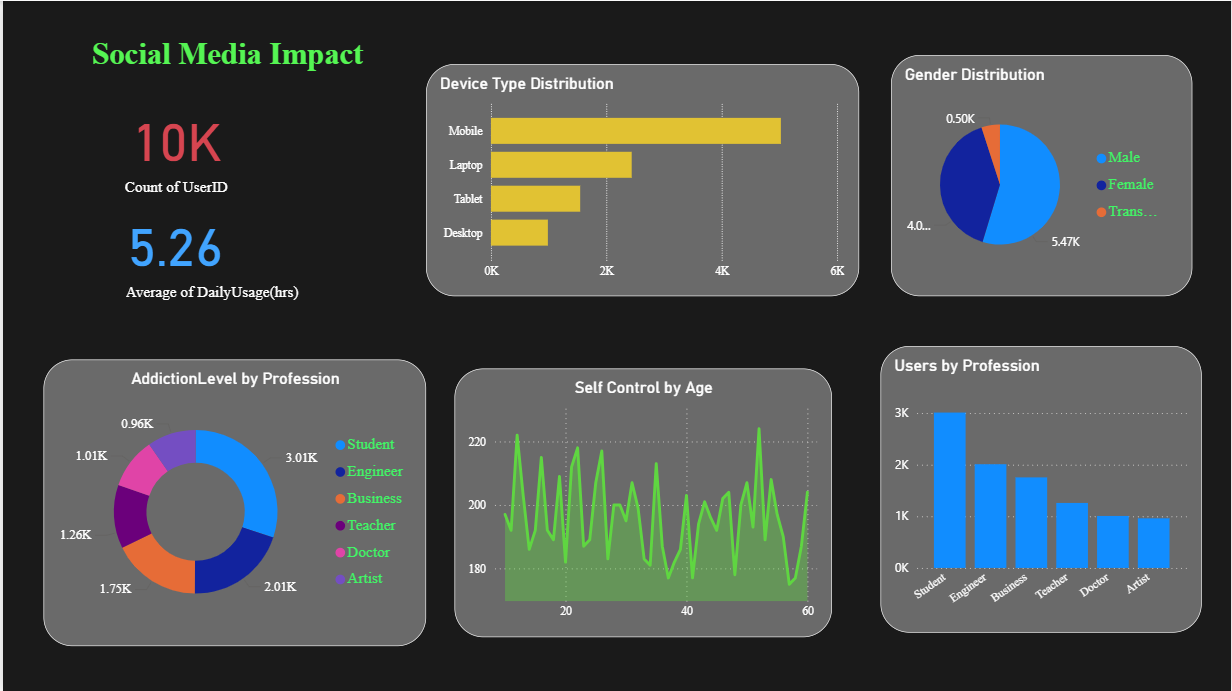

This screenshot's page, from the dashboard's own definition file:
{"tool":"powerbi","page":{"name":"Page 1","canvas":[1280,720],"ordinal":0},"visuals":[{"type":"pieChart","title":"Gender Distribution","fields":{"Category":["Sheet1.Gender"],"Y":["CountNonNull(Sheet1.Gender)"]},"box":[926,56.7,313.7,251.3],"z":0},{"type":"columnChart","title":"Users by Profession ","fields":{"Category":["Sheet1.Profession"],"Y":["CountNonNull(Sheet1.UserID)"]},"box":[914.7,359.1,334.5,298.6],"z":1000},{"type":"barChart","title":"Device Type Distribution","fields":{"Category":["Sheet1.DeviceType"],"Y":["CountNonNull(Sheet1.UserID)"]},"box":[440.3,66.1,451.7,241.9],"z":2000},{"type":"donutChart","title":"AddictionLevel by Profession","fields":{"Category":["Sheet1.Profession"],"Y":["CountNonNull(Sheet1.AddictionLevel)"]},"box":[41.6,374.2,398.7,298.6],"z":3000},{"type":"areaChart","title":"Self Control by Age","fields":{"Category":["Sheet1.Age"],"Y":["CountNonNull(Sheet1.UserID)"]},"box":[470.6,383.6,393.1,279.7],"z":4000},{"type":"cardVisual","fields":{"Data":["Count(Sheet1.UserID)"]},"box":[65.4,98,230.8,108.3],"z":5000},{"type":"textbox","box":[65.4,30.6,337,49],"z":6000},{"type":"cardVisual","fields":{"Data":["Avg(Sheet1.DailyUsage(hrs))"]},"box":[110.3,206.3,261.5,124.6],"z":7000}]}

Visuals, with their boxes in screenshot pixels (x1, y1, x2, y2), scaled from the page's 1280x720 canvas onto the 1232x691 screenshot:
"Gender Distribution" pieChart: 891:54:1193:296
"Users by Profession " columnChart: 880:345:1202:631
"Device Type Distribution" barChart: 424:63:859:296
"AddictionLevel by Profession" donutChart: 40:359:424:646
"Self Control by Age" areaChart: 453:368:831:637
cardVisual - Count(Sheet1.UserID): 63:94:285:198
textbox: 63:29:387:76
cardVisual - Avg(Sheet1.DailyUsage(hrs)): 106:198:358:318
